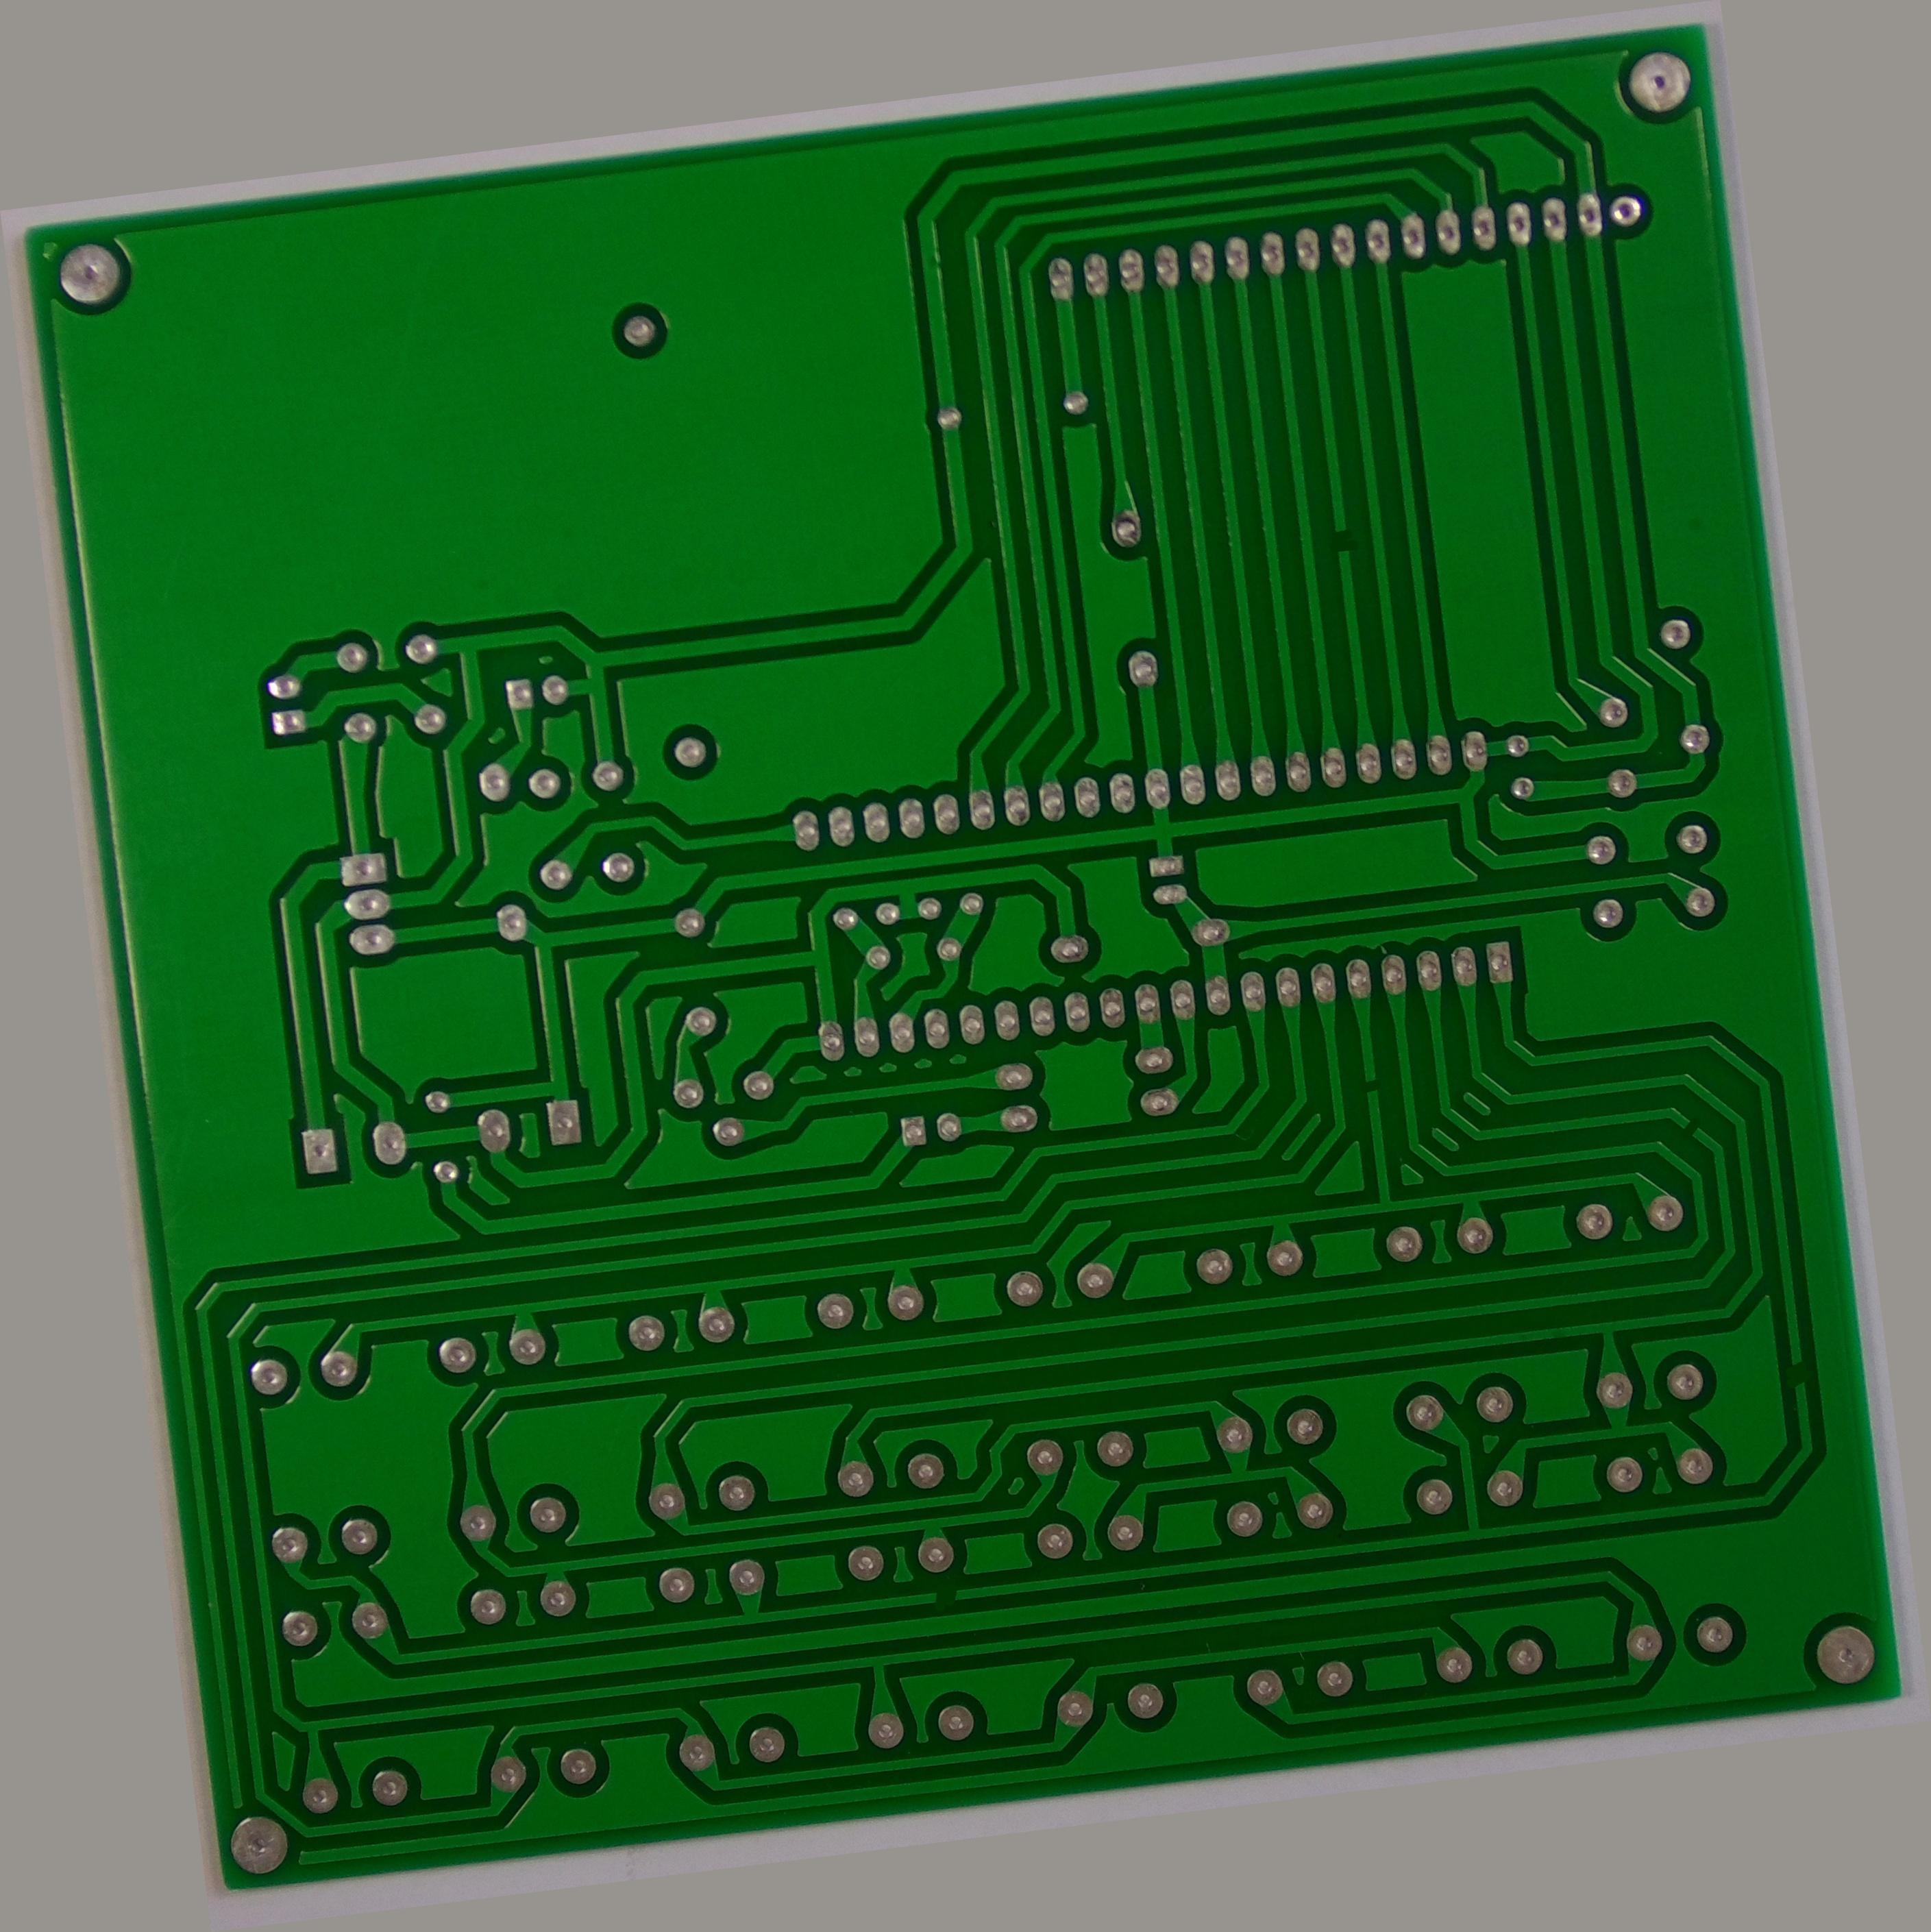open_circuit: (1814, 1500, 1844, 1557), (1416, 525, 1457, 564), (1378, 1136, 1416, 1175), (1728, 1221, 1759, 1261), (835, 1644, 879, 1672)
